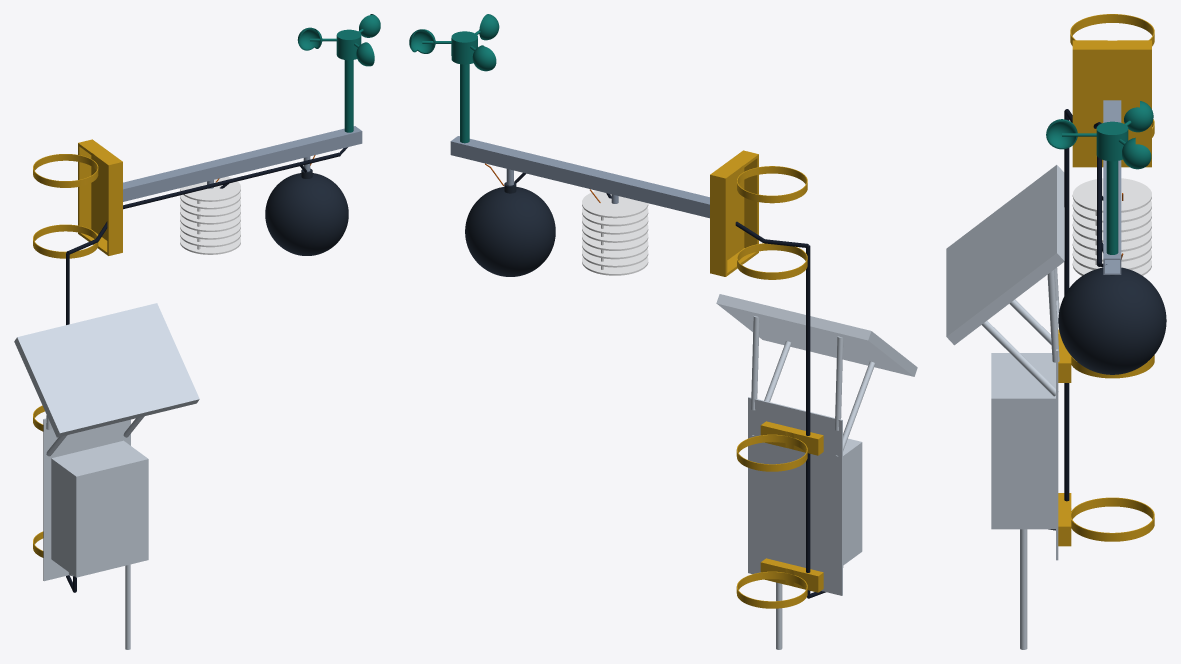
The picture shows the model from 3 angles, left to right: view 1: azimuth 30°, elevation 25°; view 2: azimuth 150°, elevation 25°; view 3: azimuth 270°, elevation 25°; orthographic projection. The views are drawn at different scales.
Parts seen in each view (by area): view 1: FieldNode core (FND-DWG-001 envelope), Arm clamp and bands, Black globe, 150 mm, Sensor arm, Multi-plate radiation shield, Cup anemometer, Sensor harness, M12; view 2: FieldNode core (FND-DWG-001 envelope), Arm clamp and bands, Black globe, 150 mm, Sensor arm, Multi-plate radiation shield, FieldNode pole adapter, Cup anemometer, Sensor harness, M12; view 3: FieldNode core (FND-DWG-001 envelope), Black globe, 150 mm, Arm clamp and bands, Multi-plate radiation shield, Cup anemometer, FieldNode pole adapter, Sensor harness, M12, Sensor arm.
Boxes of the visible parts, x1,y1,x2,y2 form: FieldNode core (FND-DWG-001 envelope): [14, 303, 199, 649]; Arm clamp and bands: [33, 139, 122, 258]; Black globe, 150 mm: [265, 168, 348, 255]; Sensor arm: [123, 126, 362, 201]; Multi-plate radiation shield: [180, 176, 240, 254]; Cup anemometer: [297, 14, 380, 132]; Sensor harness, M12: [66, 147, 347, 592]; FieldNode core (FND-DWG-001 envelope): [716, 294, 917, 649]; Arm clamp and bands: [710, 150, 807, 279]; Black globe, 150 mm: [465, 182, 555, 276]; Sensor arm: [450, 136, 709, 218]; Multi-plate radiation shield: [582, 191, 648, 275]; FieldNode pole adapter: [736, 421, 823, 608]; Cup anemometer: [409, 14, 499, 143]; Sensor harness, M12: [514, 173, 825, 598]; FieldNode core (FND-DWG-001 envelope): [946, 165, 1064, 649]; Black globe, 150 mm: [1058, 267, 1166, 374]; Arm clamp and bands: [1070, 14, 1154, 167]; Multi-plate radiation shield: [1072, 178, 1151, 275]; Cup anemometer: [1046, 101, 1153, 254]; FieldNode pole adapter: [1058, 329, 1154, 546]; Sensor harness, M12: [1048, 109, 1106, 530]; Sensor arm: [1103, 100, 1121, 274].
Size of the model in its own units: 0.8148 by 1.05 by 0.3052.
